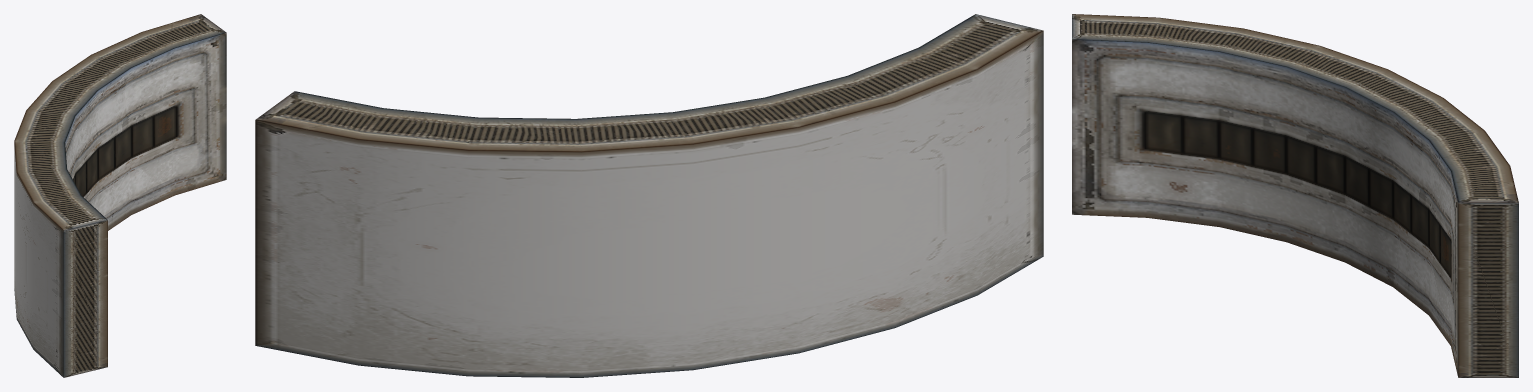
The model's file is scifi_wall_curve2_half_2.FBX.
3 views of the same model, side by side, from view 1: azimuth 30°, elevation 25°; view 2: azimuth 150°, elevation 25°; view 3: azimuth 270°, elevation 25° (orthographic). The views are drawn at different scales.
Parts seen in each view (by area): view 1: half015; view 2: half015; view 3: half015.
Part boxes in pixels (left/top/right/bottom): half015: left=14, top=14, right=226, bottom=377; half015: left=255, top=14, right=1043, bottom=377; half015: left=1072, top=14, right=1518, bottom=377.
Bounding box in the file's own units: 294 × 127 × 294.
